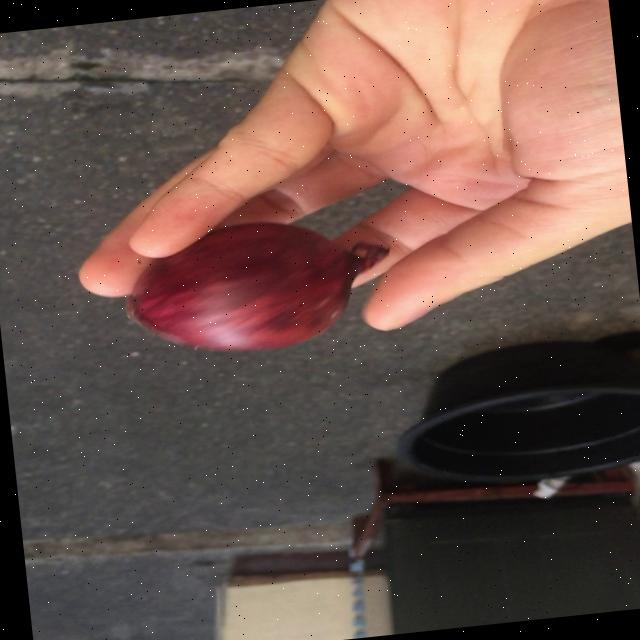Onion: (125, 221, 388, 349)
